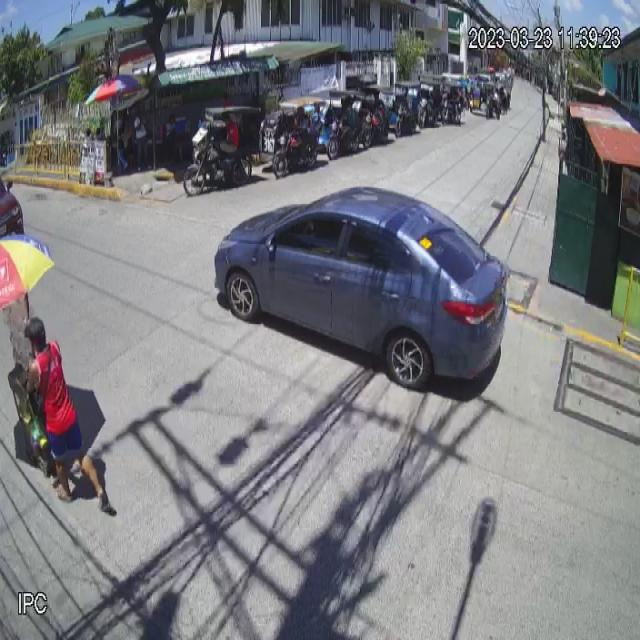Car: (217, 186, 506, 396)
